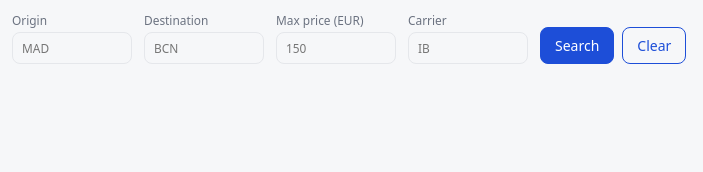
Test case: SearchForm › blocks a malformed code and says which field is wrong
The width and height of the screenshot is (703, 172).
Type "i" into the field labelled "Carrier".
click(468, 48); type("i")  # box [408,32,528,64]
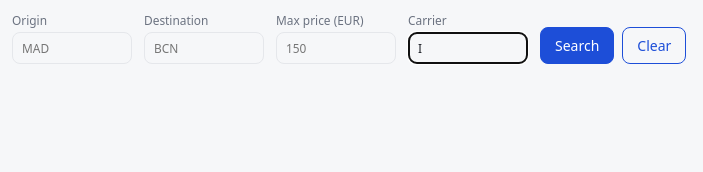
Click the button "Search".
click(577, 46)  # box [540,27,614,64]
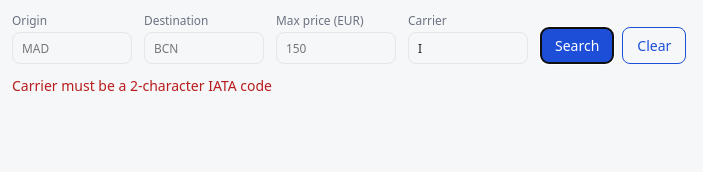
Expected: the message reads "Carrier must be a 2-character IATA code", [12,76,272,95]
